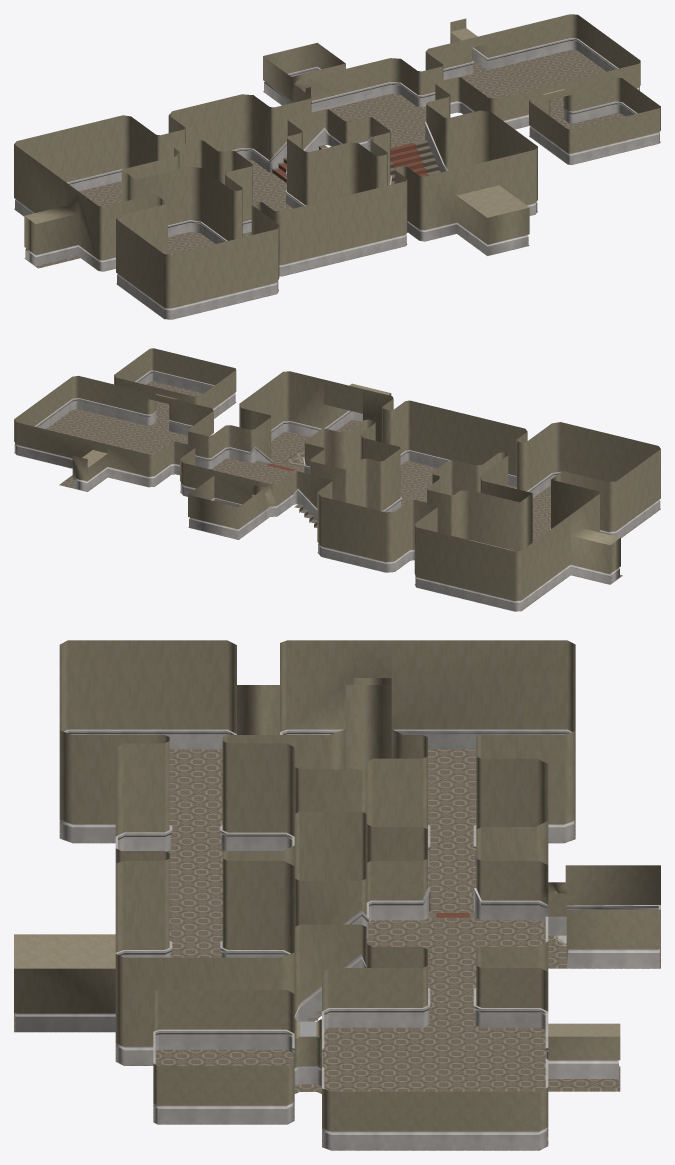
File: map.fbx
The picture shows the model from 3 angles, top to bottom: view 1: azimuth 30°, elevation 25°; view 2: azimuth 150°, elevation 25°; view 3: azimuth 270°, elevation 25°; orthographic projection. The views are drawn at different scales.
Visible parts, largest first — view 1: polySurface26, polySurface28, polySurface13; view 2: polySurface26, polySurface28; view 3: polySurface26, polySurface28.
Part boxes in pixels (x1,y1,x2,y2): polySurface26: [14, 14, 660, 319]; polySurface28: [14, 50, 660, 319]; polySurface13: [390, 140, 441, 184]; polySurface26: [14, 348, 660, 611]; polySurface28: [14, 381, 660, 611]; polySurface26: [14, 640, 660, 1149]; polySurface28: [14, 685, 660, 1150].
Bounding box in the file's own units: 59.1 × 6.21 × 33.27.
6 materials, 5 textured.
